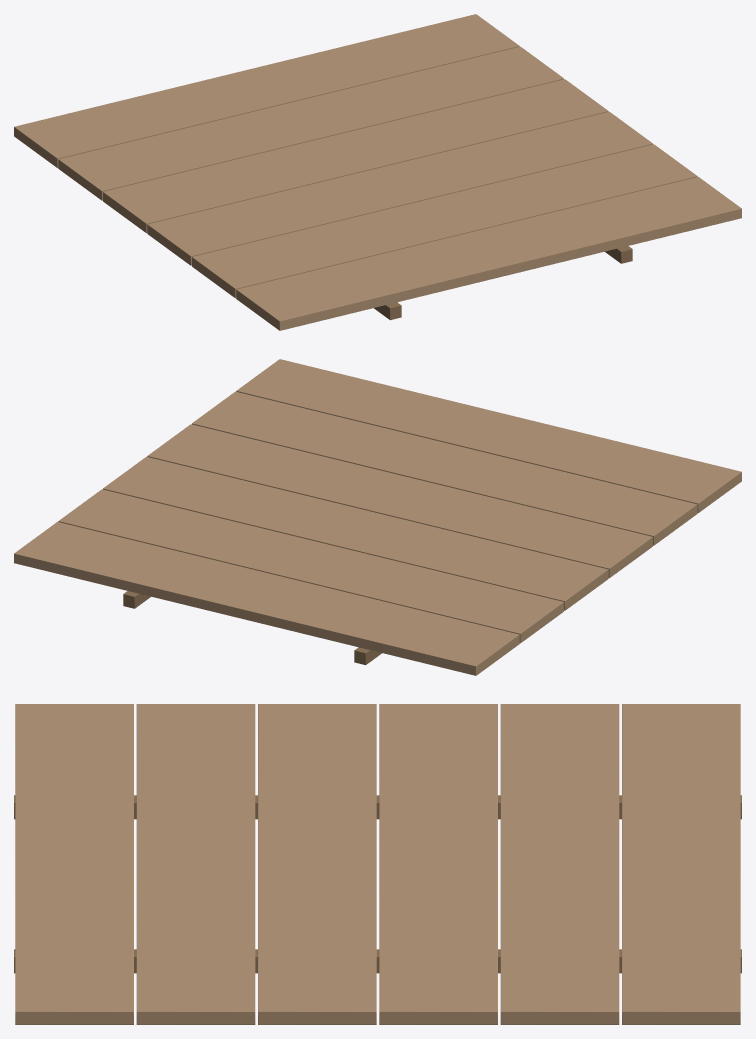
File: SM_BLD_FLOOR_WOOD.fbx
3 renders of one model, top to bottom at view 1: azimuth 30°, elevation 25°; view 2: azimuth 150°, elevation 25°; view 3: azimuth 270°, elevation 25°, orthographic. The views are drawn at different scales.
Parts seen in each view (by area): view 1: SM_BLD_FLOOR_WOOD; view 2: SM_BLD_FLOOR_WOOD; view 3: SM_BLD_FLOOR_WOOD.
Boxes of the visible parts, x1,y1,x2,y2 form: SM_BLD_FLOOR_WOOD: (14,14,741,330); SM_BLD_FLOOR_WOOD: (14,359,741,675); SM_BLD_FLOOR_WOOD: (14,704,741,1024).
Size of what is drawn, in the model's own units: 4 by 0.21 by 4.
